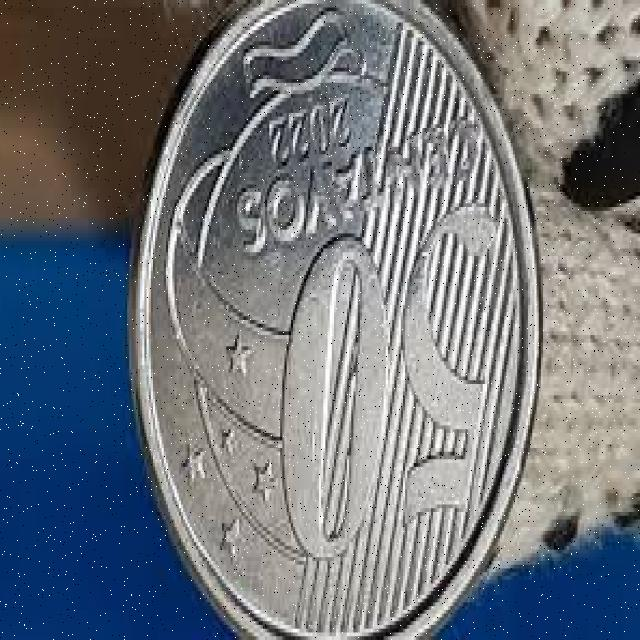50 cent: (127, 0, 539, 640)
